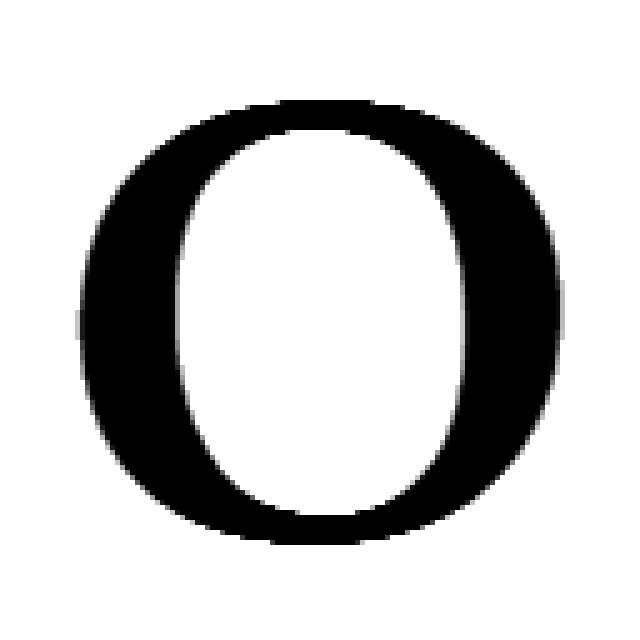O: (75, 100, 565, 550)
